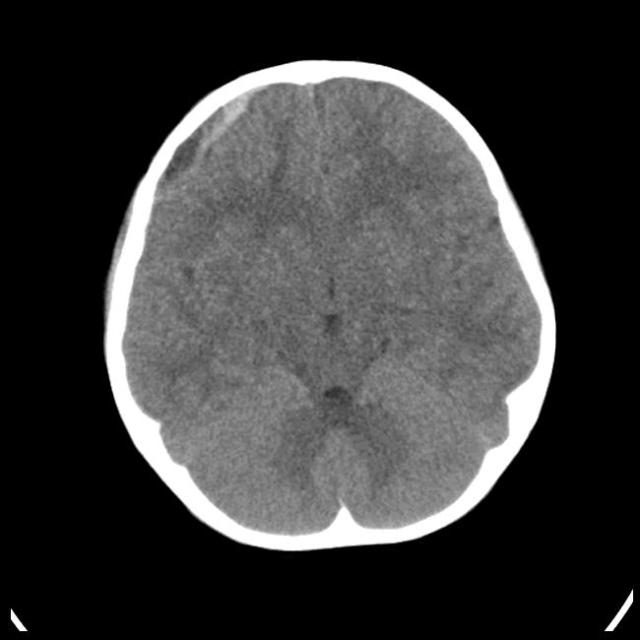lesion: (103, 59, 556, 550)
